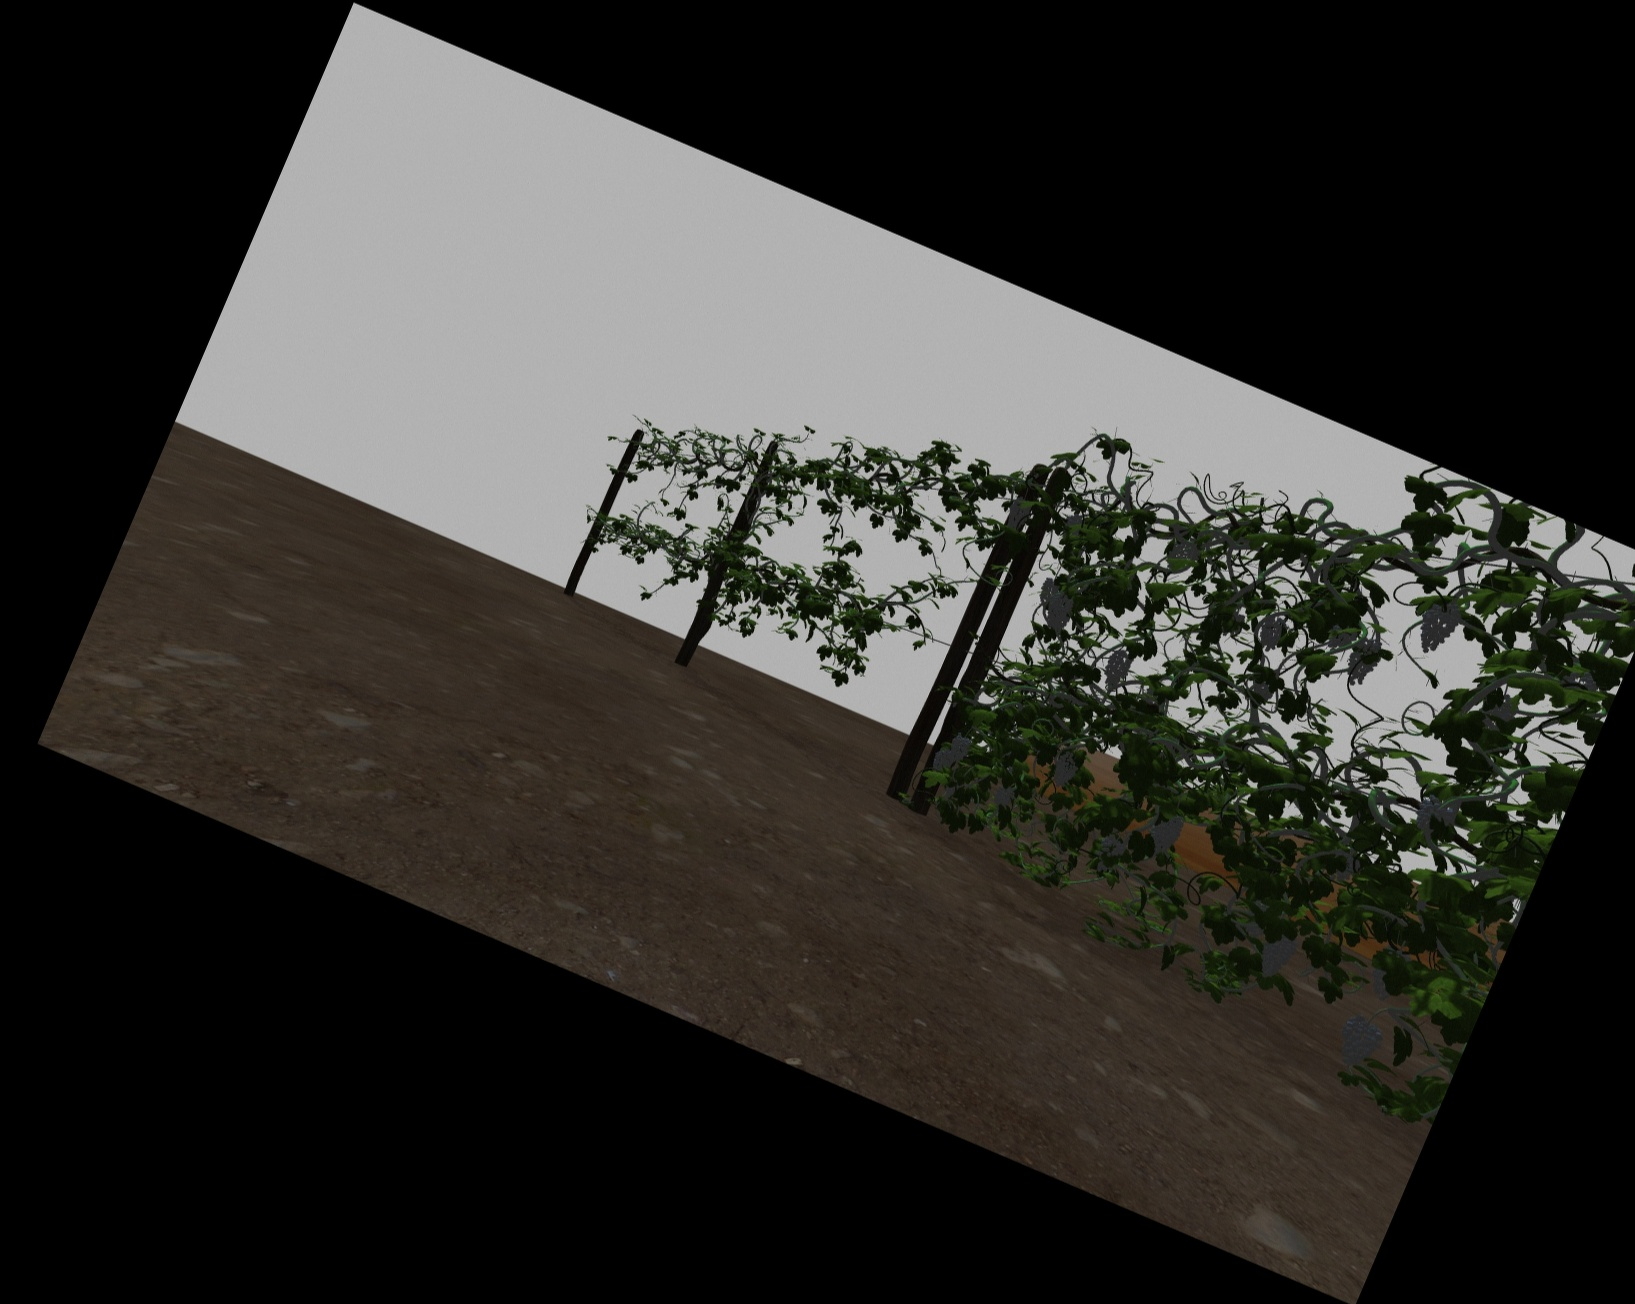grape: (1340, 1017, 1381, 1068), (1419, 601, 1454, 653), (1260, 930, 1292, 981), (1348, 637, 1376, 685), (1415, 797, 1453, 833), (1149, 812, 1179, 857), (1256, 617, 1285, 651), (1099, 833, 1123, 873), (1048, 595, 1074, 631), (1106, 649, 1129, 687), (1054, 753, 1076, 788), (1169, 539, 1199, 566), (1006, 502, 1028, 528), (1038, 579, 1059, 605), (949, 734, 970, 761), (933, 749, 953, 774), (992, 786, 1012, 806)
